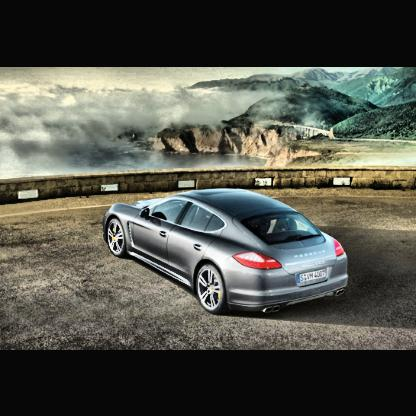Porsche Panamera Sedan 2012: (104, 188, 351, 316)
